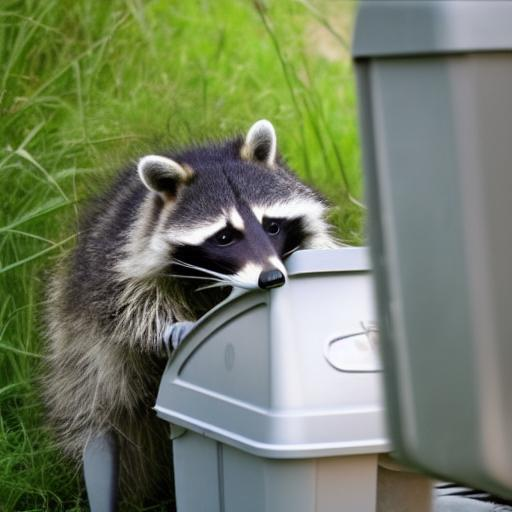raccoon: (36, 114, 346, 457)
